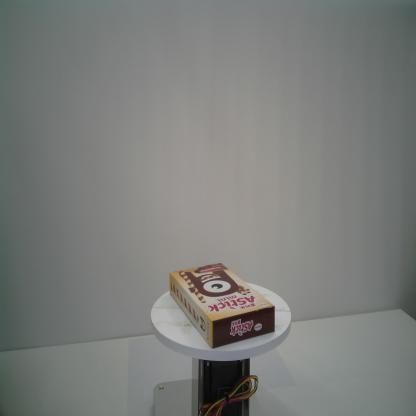Dessert: (169, 262, 276, 350)
